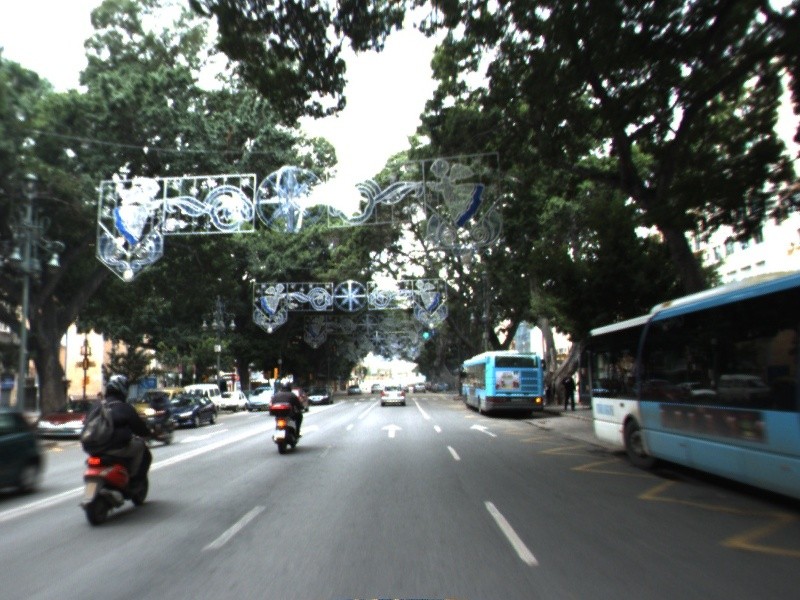STRAIGHT: (467, 422, 500, 439), (379, 422, 405, 439)
